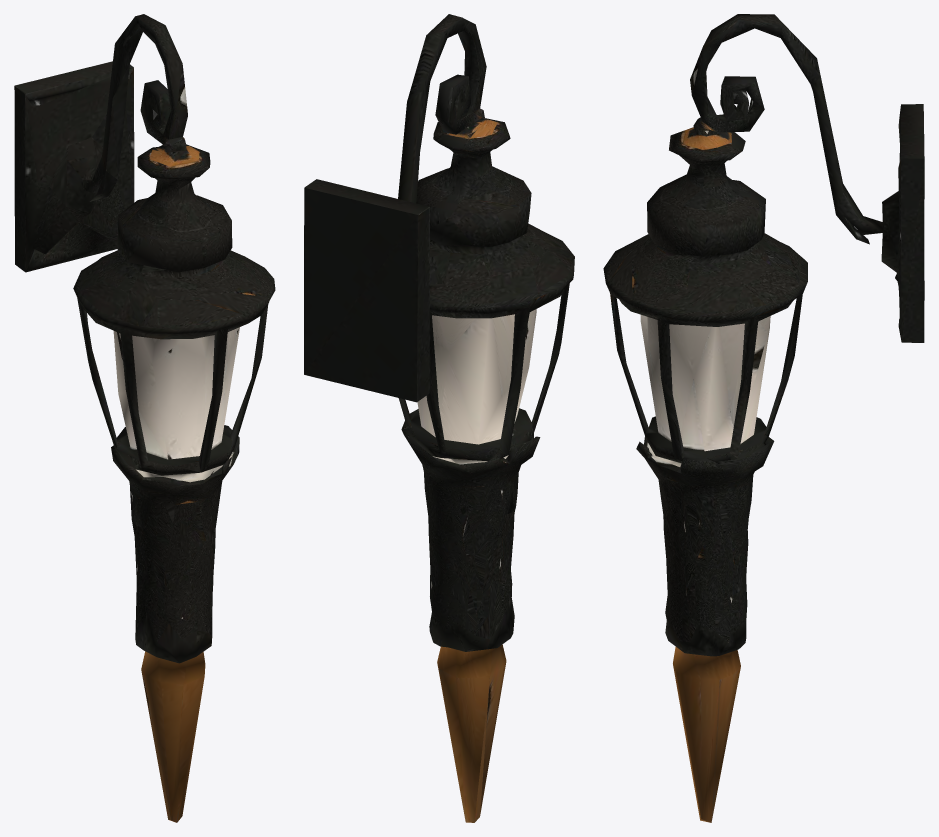
The model's file is torch_bracket.glb.
3 views of the same model, side by side, from view 1: azimuth 30°, elevation 25°; view 2: azimuth 150°, elevation 25°; view 3: azimuth 270°, elevation 25° (orthographic). The views are drawn at different scales.
Parts seen in each view (by area): view 1: torch_bracket; view 2: torch_bracket; view 3: torch_bracket.
Part boxes in pixels (bbox=[...]): torch_bracket: bbox=[14, 14, 275, 822]; torch_bracket: bbox=[304, 14, 574, 822]; torch_bracket: bbox=[603, 14, 924, 822].
Bounding box in the file's own units: 0.2335 × 0.9966 × 0.3604.
Materials: 1 (1 with a texture image).
